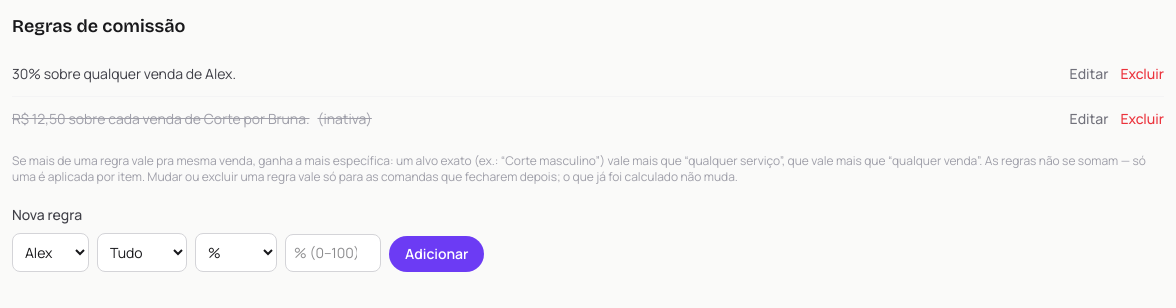
ComissoesView: editar e excluir regras › editar uma regra inativa mostra 'Ativa' desmarcada e o valor fixo formatado
This screenshot has width=1176, height=308.
What coordinates should you click on to do the following:
click the button "Editar" in the row of "(inativa)"
I would click on:
 (1089, 119)
Its box is 1070,109 -> 1108,129.
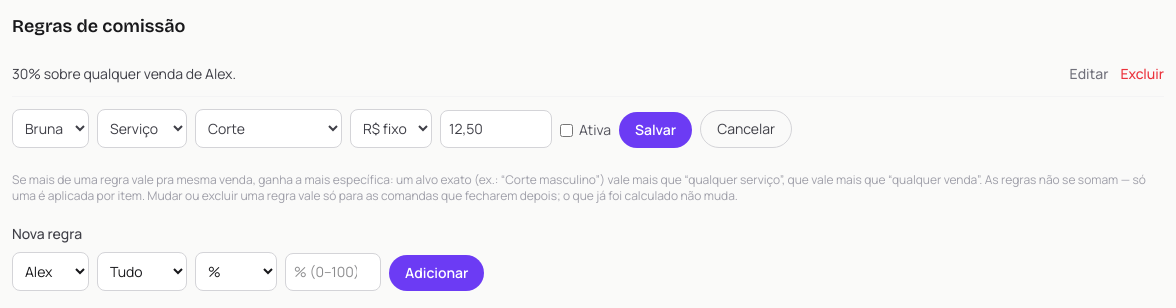
Check: the checkbox labelled "Ativa" is not checked, box 560,124 -> 573,136
Check: the field named "Valor fixo da comissão (R$)" holds "12,50", box 440,110 -> 552,148
Check: the dropdown named "Serviço" shows "Corte", box 195,109 -> 342,148
